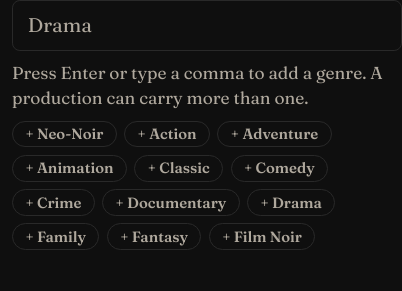
Test: GenreInput › offers a genre already used elsewhere in the schedule
Click the button "+ Neo-Noir".
click(64, 134)  # box [12,121,117,148]
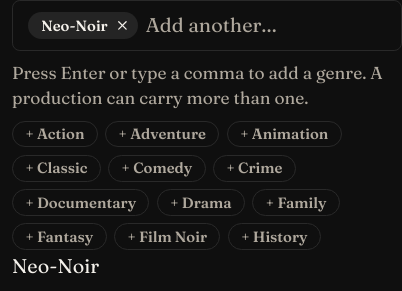
Now the button named "Remove Neo-Noir" is shown, box [113,16,132,36]
